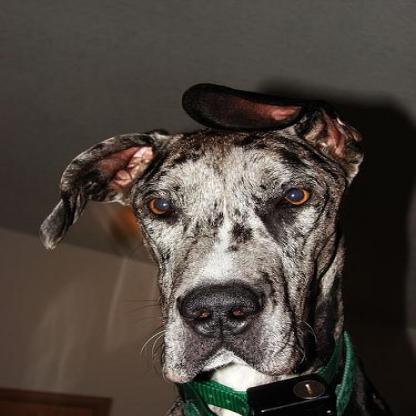Great_Dane: (35, 79, 372, 414)
